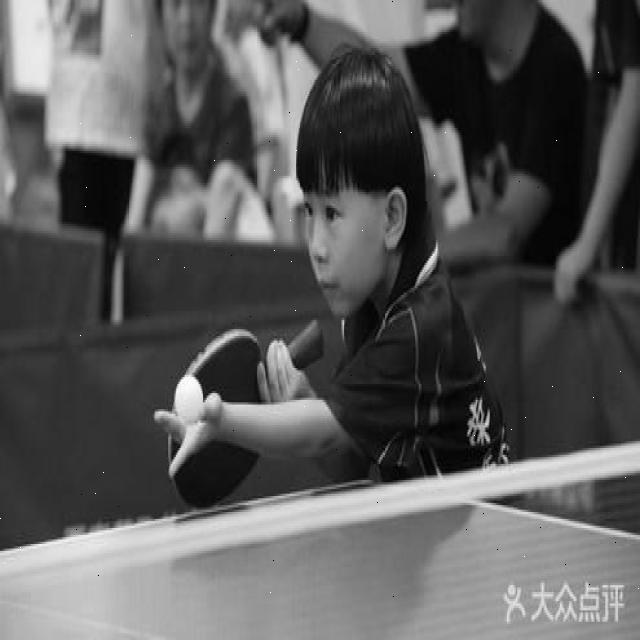ping-pong-ball: (172, 366, 203, 430)
